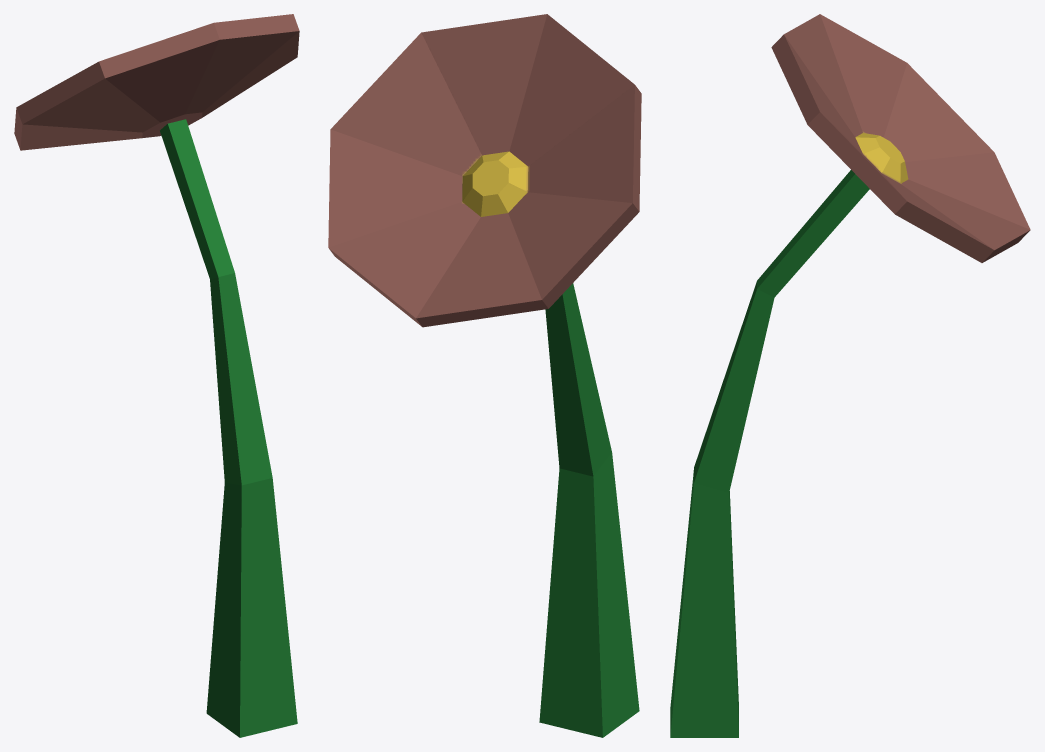
The model's file is flower_red.fbx.
3 renders of one model, left to right at view 1: azimuth 30°, elevation 25°; view 2: azimuth 150°, elevation 25°; view 3: azimuth 270°, elevation 25°, orthographic. The views are drawn at different scales.
Visible parts, largest first — view 1: flower_red; view 2: flower_red; view 3: flower_red.
Boxes of the visible parts, bbox=[...] form: flower_red: bbox=[14, 14, 299, 737]; flower_red: bbox=[328, 14, 641, 737]; flower_red: bbox=[670, 14, 1030, 737].
Size of the model in its own units: 11.49 by 26.65 by 12.63.
